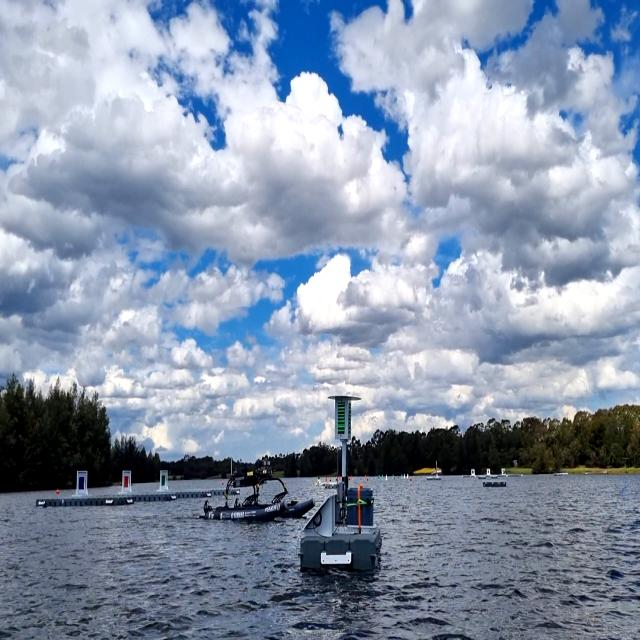led: (336, 400, 346, 438)
